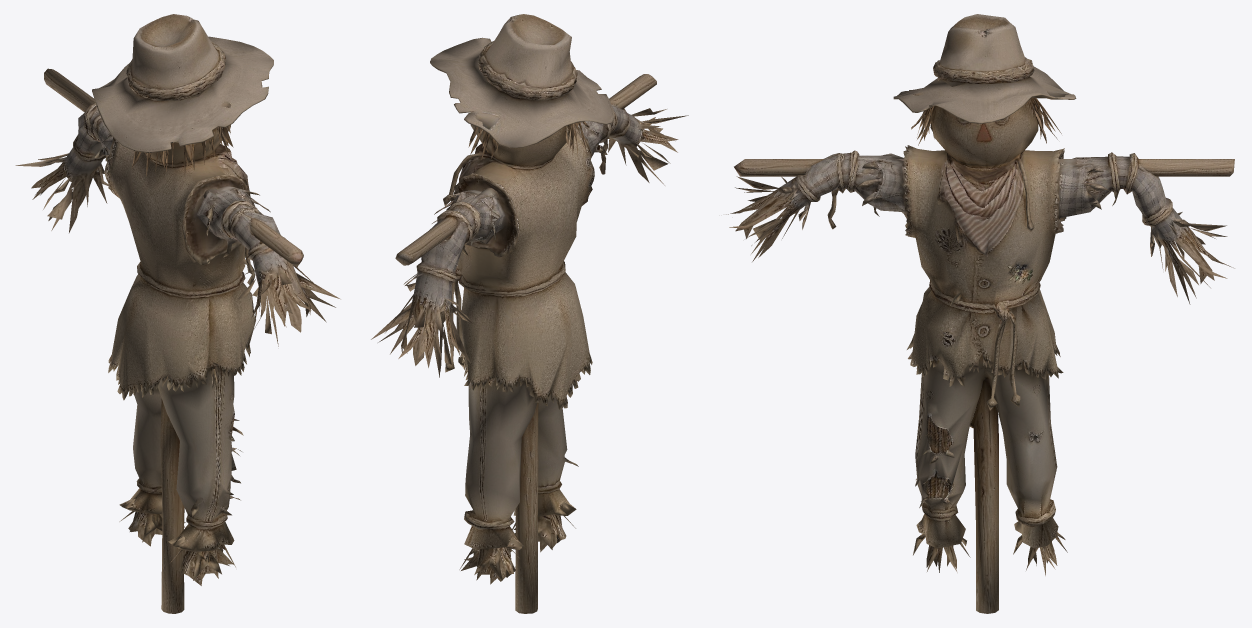
Rendered from tripo_convert_4da61348-7bba-44a2-94f1-36f39b68a118.fbx.
The picture shows the model from 3 angles, left to right: view 1: azimuth 30°, elevation 25°; view 2: azimuth 150°, elevation 25°; view 3: azimuth 270°, elevation 25°; orthographic projection.
Parts seen in each view (by area): view 1: tripo_node_4da61348; view 2: tripo_node_4da61348; view 3: tripo_node_4da61348.
Boxes of the visible parts, box(x1,y1,x2,y2) form: tripo_node_4da61348: box(15, 14, 340, 613); tripo_node_4da61348: box(371, 14, 688, 613); tripo_node_4da61348: box(726, 14, 1234, 613).
Size of the model in its own units: 0.2949 by 0.998 by 0.7988.
1 material, 1 textured.
